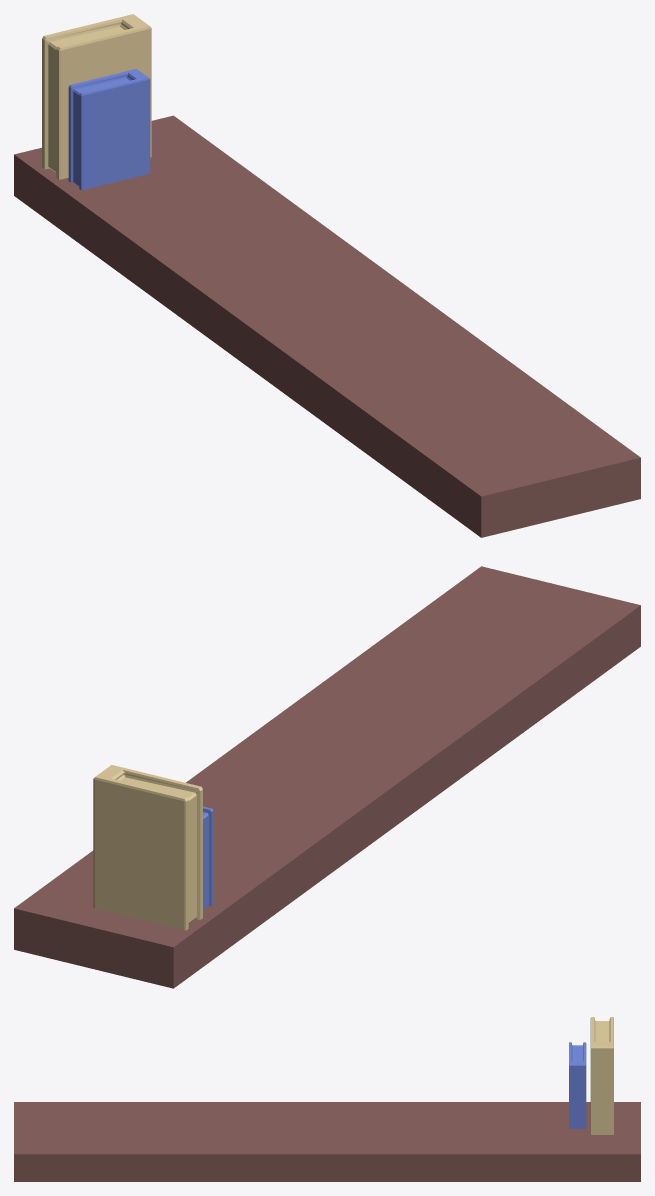
Rendered from ShelfProp.fbx.
3 views of the same model, one above another, from view 1: azimuth 30°, elevation 25°; view 2: azimuth 150°, elevation 25°; view 3: azimuth 270°, elevation 25° (orthographic). The views are drawn at different scales.
Visible parts, largest first — view 1: Cube.027; view 2: Cube.027; view 3: Cube.027.
Boxes of the visible parts, bbox=[...] form: Cube.027: bbox=[14, 14, 640, 537]; Cube.027: bbox=[14, 566, 640, 988]; Cube.027: bbox=[14, 1017, 640, 1181].
Bounding box in the file's own units: 39.69 × 40.99 × 201.
